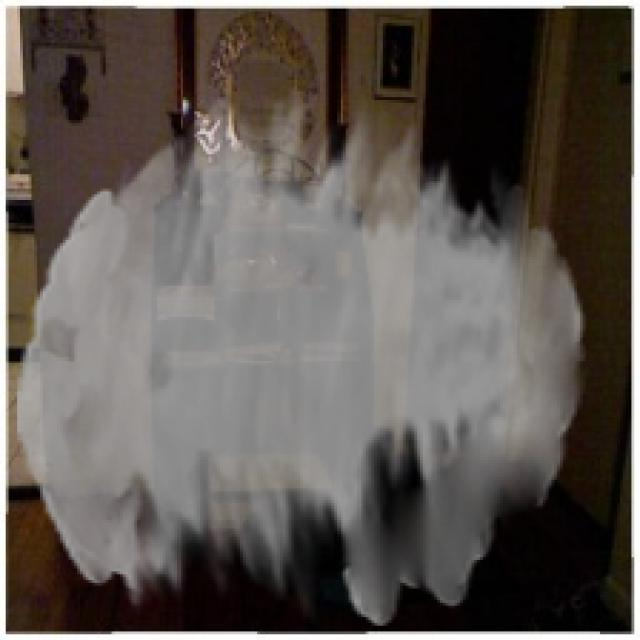smoke: (17, 91, 586, 626)
